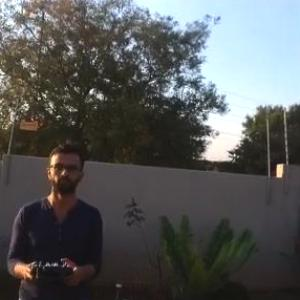follow: (0, 143, 106, 299)
